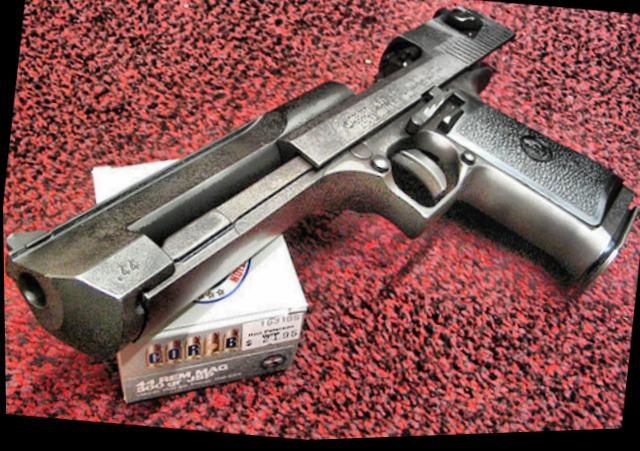pistol: (0, 0, 640, 423)
